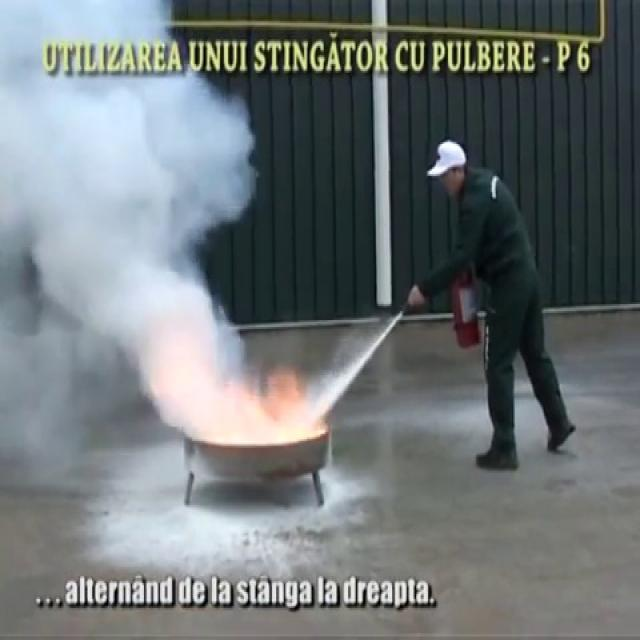Smoke: (0, 0, 288, 450)
